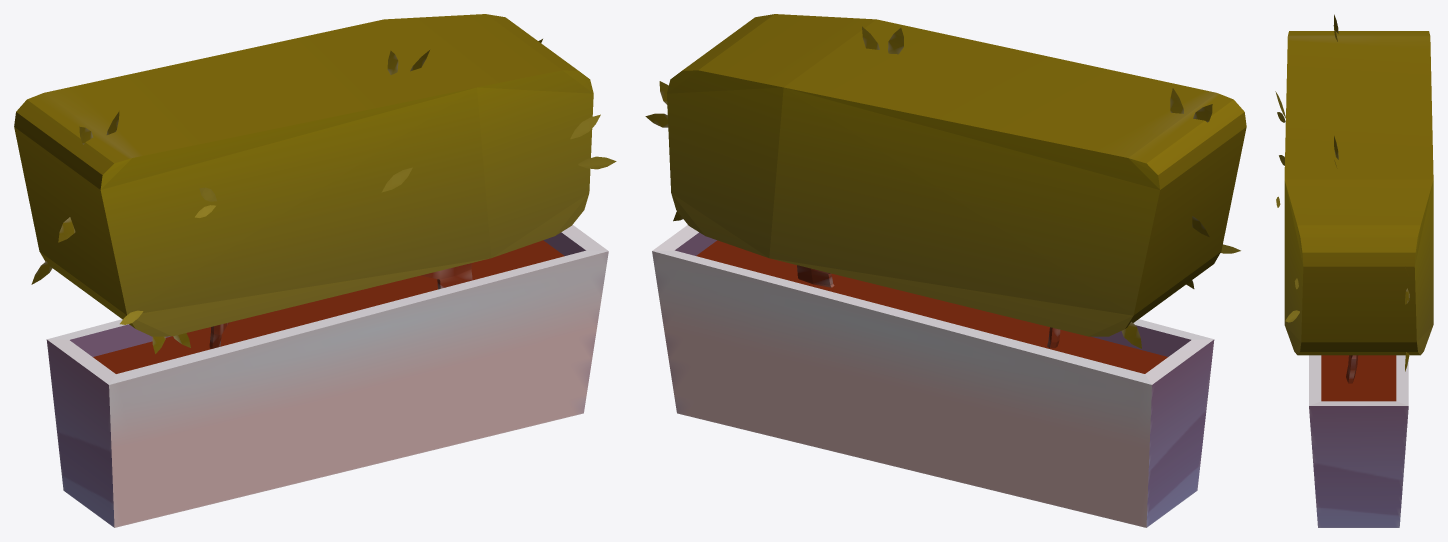
The model's file is Planta_baja.fbx.
3 views of the same model, side by side, from view 1: azimuth 30°, elevation 25°; view 2: azimuth 150°, elevation 25°; view 3: azimuth 270°, elevation 25° (orthographic). The views are drawn at different scales.
Visible parts, largest first — view 1: Plane.006; view 2: Plane.006; view 3: Plane.006.
Boxes of the visible parts, <box> form: Plane.006: <box>14,14,616,527</box>; Plane.006: <box>645,14,1246,527</box>; Plane.006: <box>1275,14,1433,527</box>.
Size of the model in its own units: 66.73 by 48.71 by 21.44.
